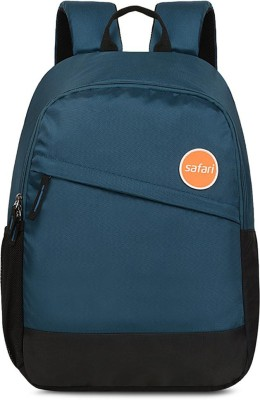backpack: (0, 0, 259, 392)
